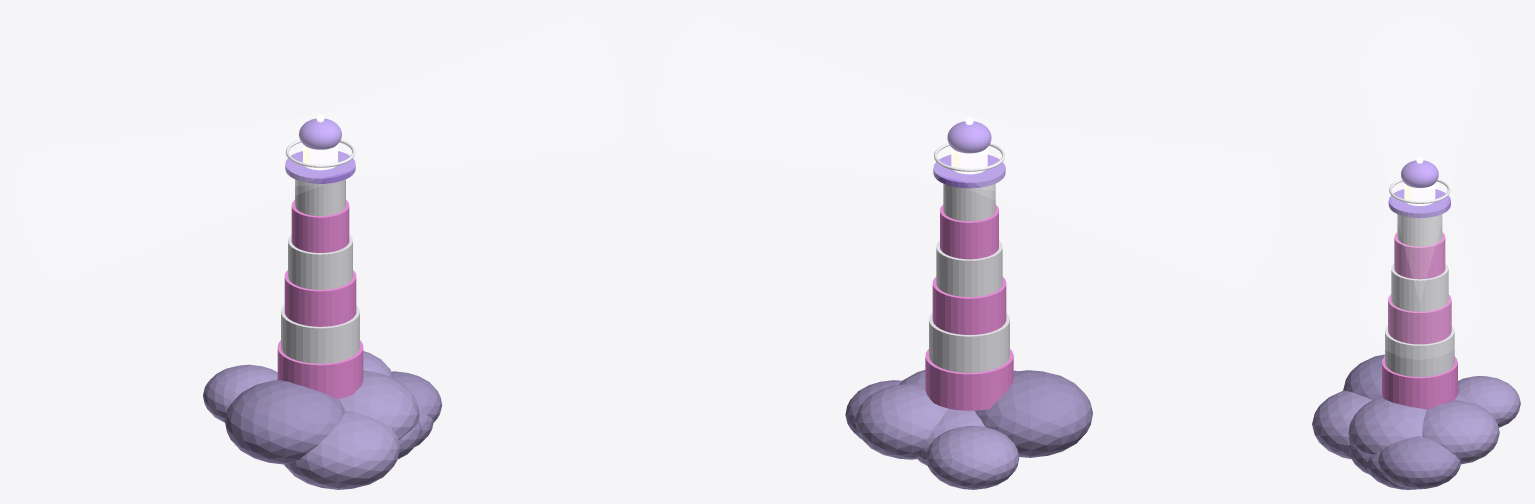
The model's file is lighthouse.glb.
The picture shows the model from 3 angles, left to right: view 1: azimuth 30°, elevation 25°; view 2: azimuth 150°, elevation 25°; view 3: azimuth 270°, elevation 25°; orthographic projection. The views are drawn at different scales.
Parts seen in each view (by area): view 1: rock_3, rock_4, tower_1, rock_0, tower_2, tower_0, tower_3, tower_4, rock_8, tower_5, gallery, rock_5 (+2 smaller); view 2: rock_3, rock_6, rock_8, tower_0, tower_1, tower_2, tower_3, tower_4, tower_5, gallery, dome, rock_2 (+2 smaller); view 3: rock_6, rock_5, rock_0, tower_0, tower_1, rock_4, tower_2, tower_3, rock_8, tower_4, tower_5, rock_3 (+6 smaller).
Part boxes in pixels (bbox=[...]): rock_3: bbox=[224, 380, 345, 464]; rock_4: bbox=[284, 411, 400, 489]; tower_1: bbox=[281, 305, 359, 363]; rock_0: bbox=[338, 370, 419, 439]; tower_2: bbox=[284, 270, 356, 326]; tower_0: bbox=[277, 340, 363, 399]; tower_3: bbox=[288, 235, 352, 289]; tower_4: bbox=[291, 200, 349, 252]; rock_8: bbox=[203, 364, 277, 422]; tower_5: bbox=[295, 179, 345, 215]; gallery: bbox=[285, 151, 355, 183]; rock_5: bbox=[390, 371, 442, 422]; rock_3: bbox=[975, 370, 1092, 457]; rock_6: bbox=[855, 383, 948, 459]; rock_8: bbox=[926, 425, 1019, 489]; tower_0: bbox=[925, 349, 1013, 410]; tower_1: bbox=[929, 313, 1009, 372]; tower_2: bbox=[932, 276, 1006, 334]; tower_3: bbox=[936, 240, 1002, 297]; tower_4: bbox=[940, 205, 998, 259]; tower_5: bbox=[943, 183, 995, 221]; gallery: bbox=[933, 154, 1005, 188]; dome: bbox=[947, 121, 991, 153]; rock_2: bbox=[917, 408, 985, 465]; rock_6: bbox=[1422, 400, 1499, 464]; rock_5: bbox=[1378, 436, 1460, 489]; rock_0: bbox=[1348, 397, 1426, 454]; tower_0: bbox=[1382, 356, 1457, 409]; tower_1: bbox=[1385, 325, 1454, 376]; rock_4: bbox=[1312, 390, 1372, 459]; tower_2: bbox=[1388, 294, 1451, 344]; tower_3: bbox=[1391, 263, 1448, 311]; rock_8: bbox=[1458, 376, 1520, 427]; tower_4: bbox=[1394, 232, 1445, 279]; tower_5: bbox=[1397, 214, 1442, 246]; rock_3: bbox=[1343, 354, 1384, 400].
Bounding box in the file's own units: 16 × 10.5 × 6.05.
